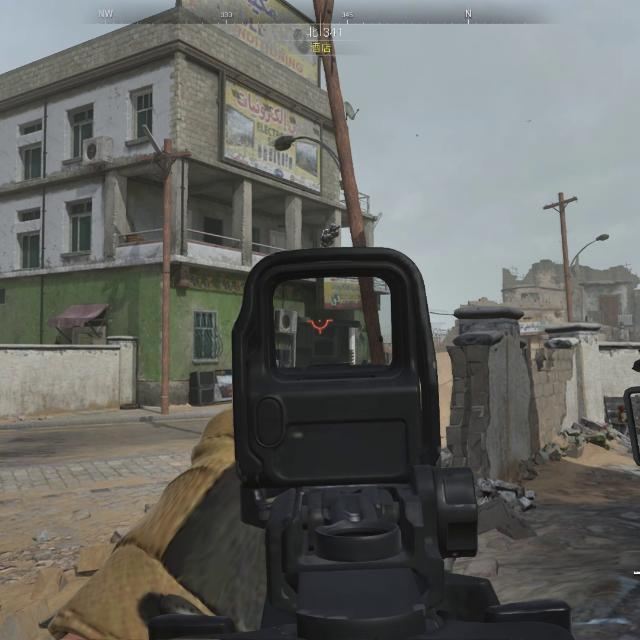MW2_body: (319, 224, 340, 247)
